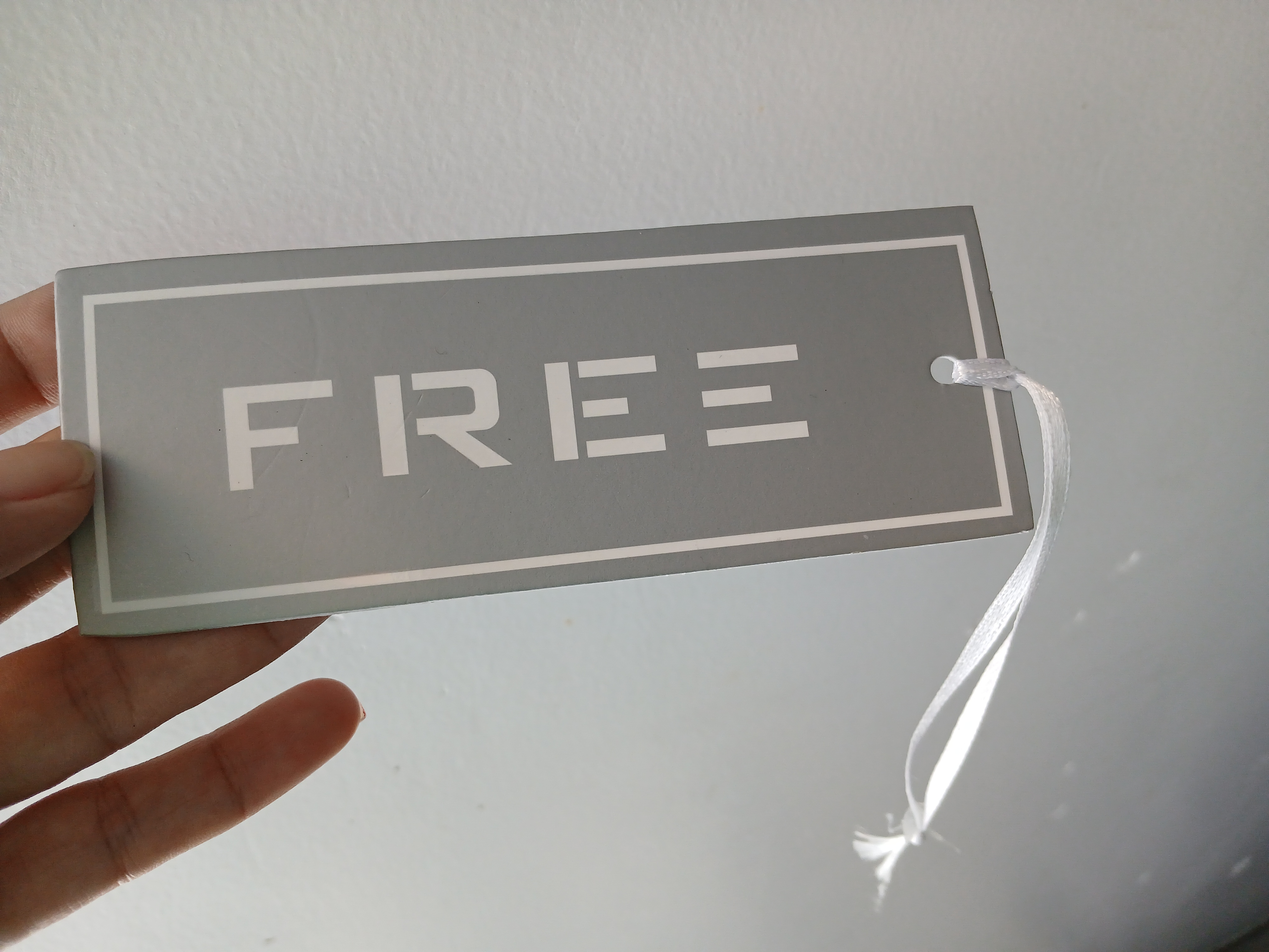Papel: (50, 207, 1038, 637)
